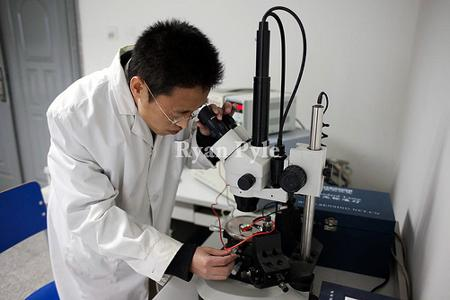person: (47, 19, 237, 300)
